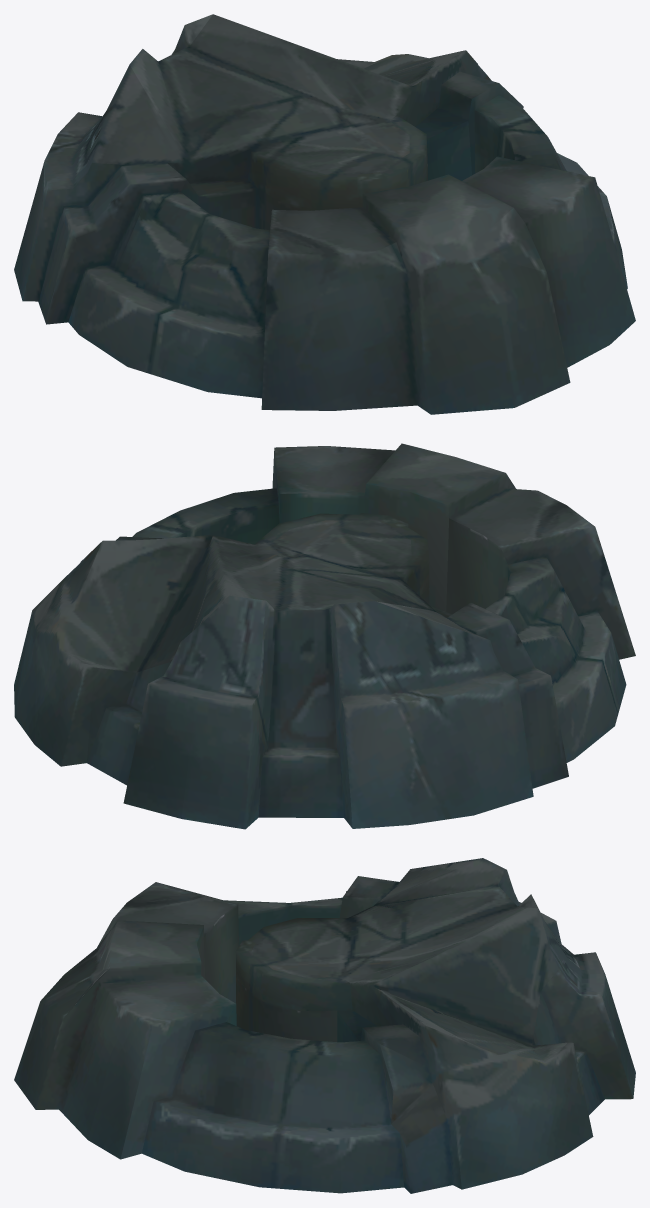
The model's file is princess_tower_ruin_blue.glb.
The picture shows the model from 3 angles, top to bottom: view 1: azimuth 30°, elevation 25°; view 2: azimuth 150°, elevation 25°; view 3: azimuth 270°, elevation 25°; orthographic projection. The views are drawn at different scales.
Parts seen in each view (by area): view 1: PrincessTowerRuin; view 2: PrincessTowerRuin; view 3: PrincessTowerRuin.
Boxes of the visible parts, bbox=[...] form: PrincessTowerRuin: bbox=[14, 14, 635, 414]; PrincessTowerRuin: bbox=[14, 443, 635, 829]; PrincessTowerRuin: bbox=[14, 858, 635, 1193].
Bounding box in the file's own units: 274 × 92.07 × 311.
1 material, 1 textured.
